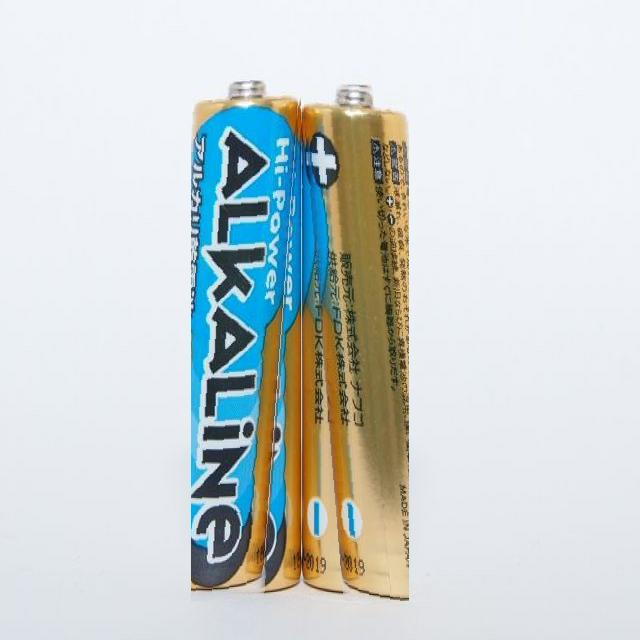battery: (192, 78, 304, 604), (302, 81, 409, 601)
